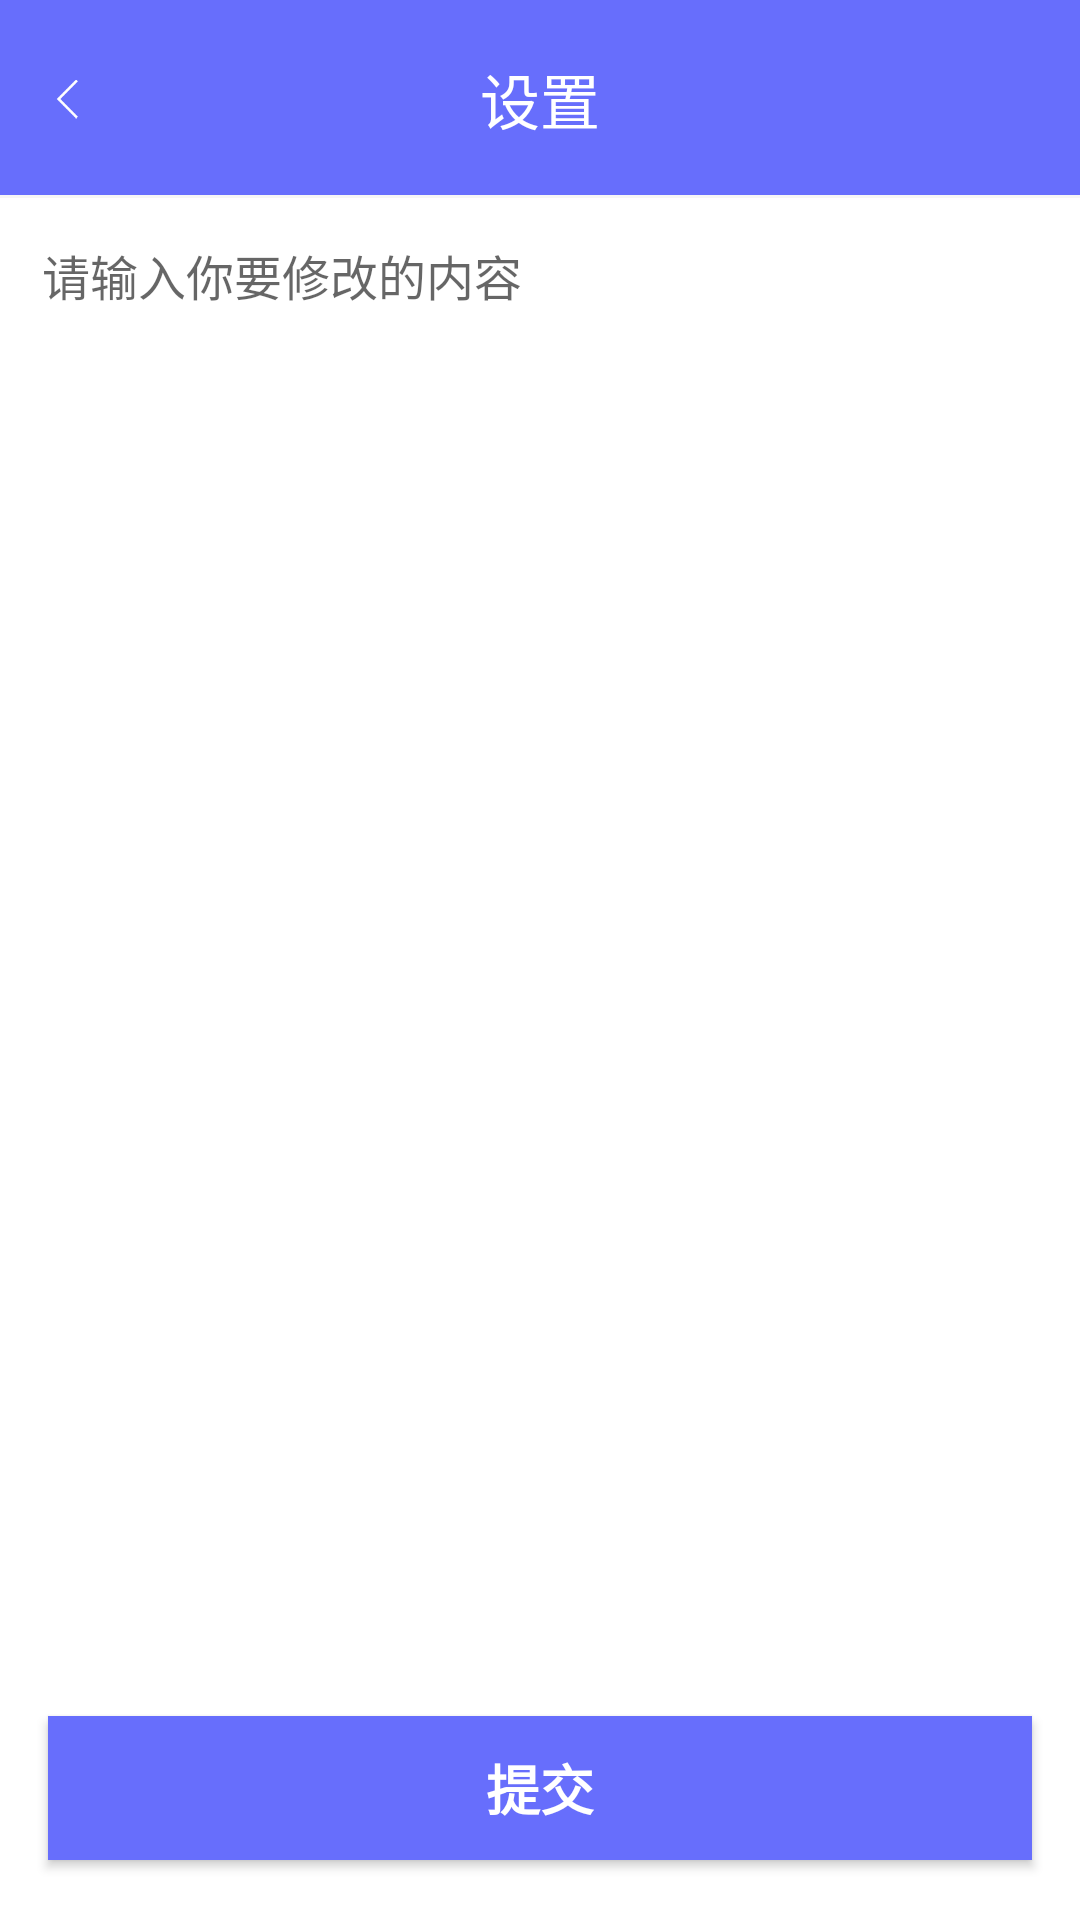

Screen size 1080×1920. Icon name, then its center in pixels as [x,y]:
fanhui: [67,99]
